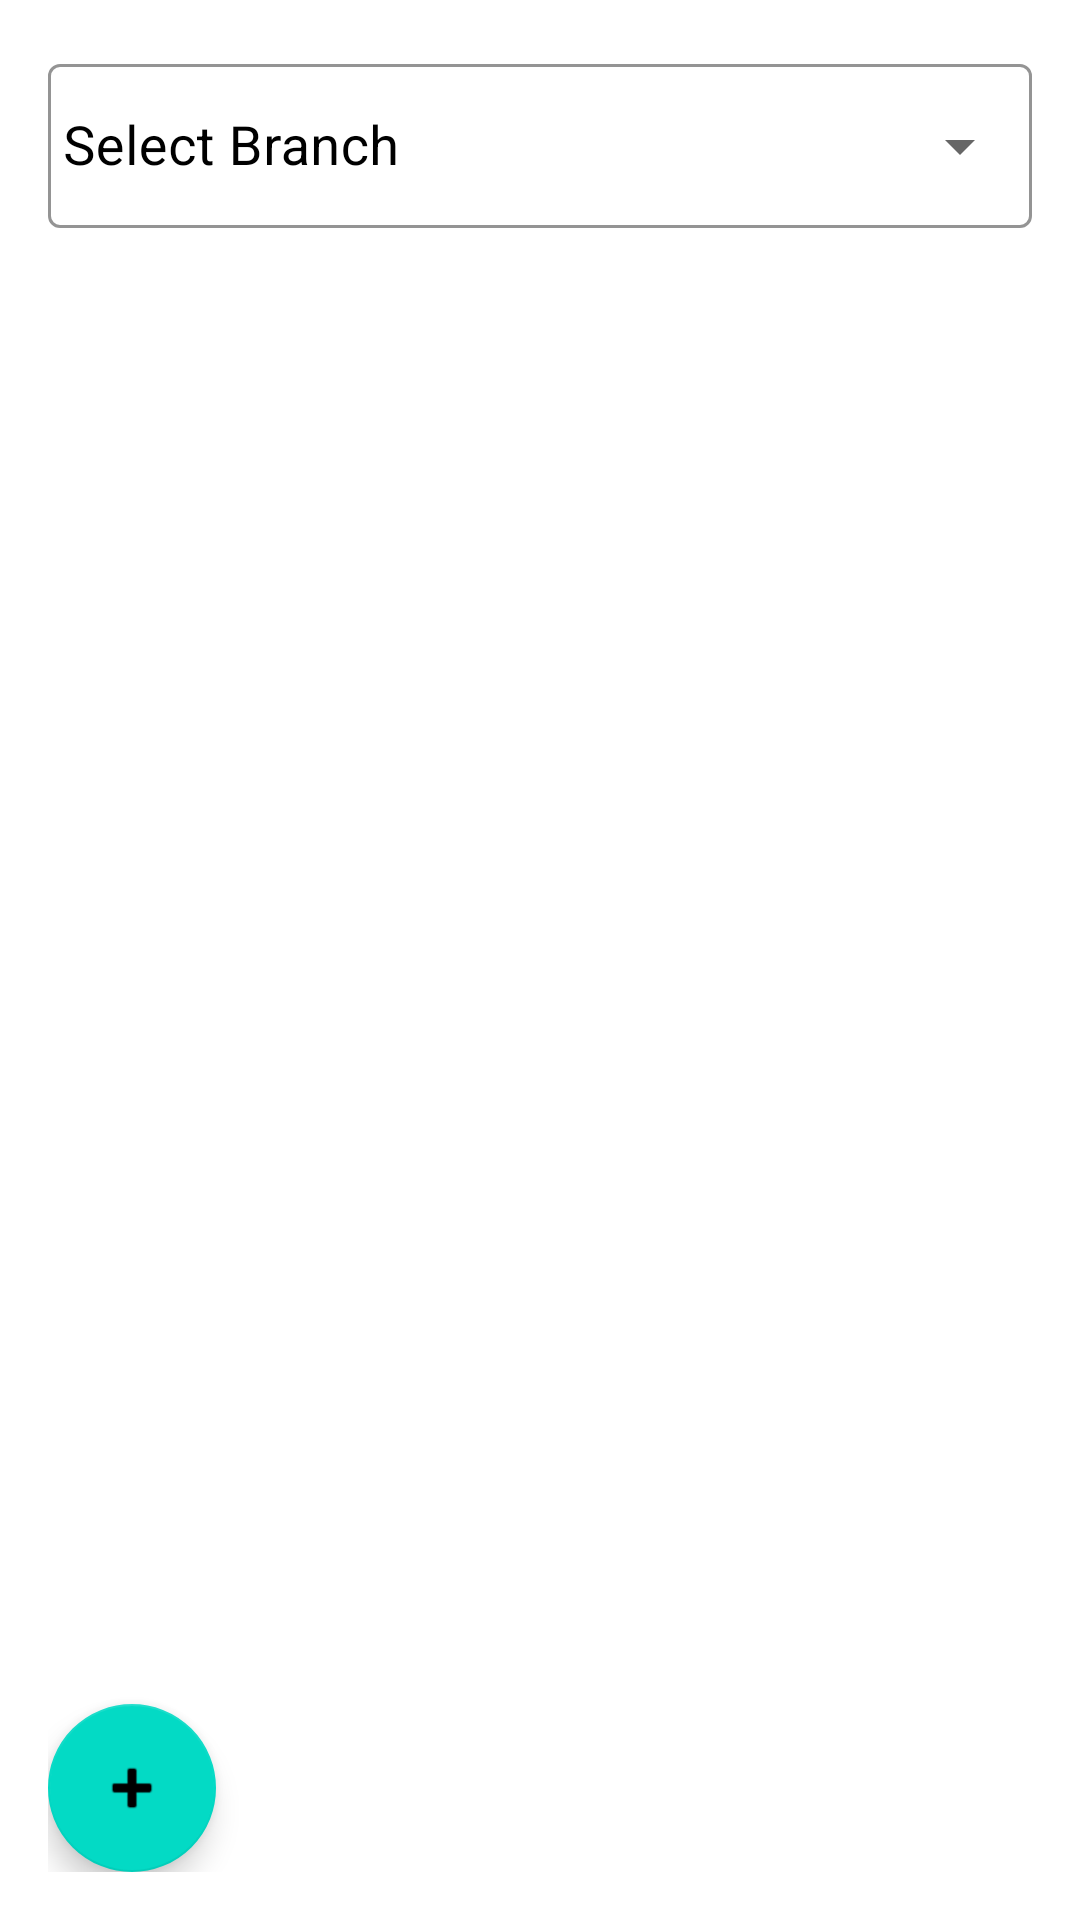

Named icons in this screenshot (1080*1920) and their centers, [x,y]:
add: [132,1788]
